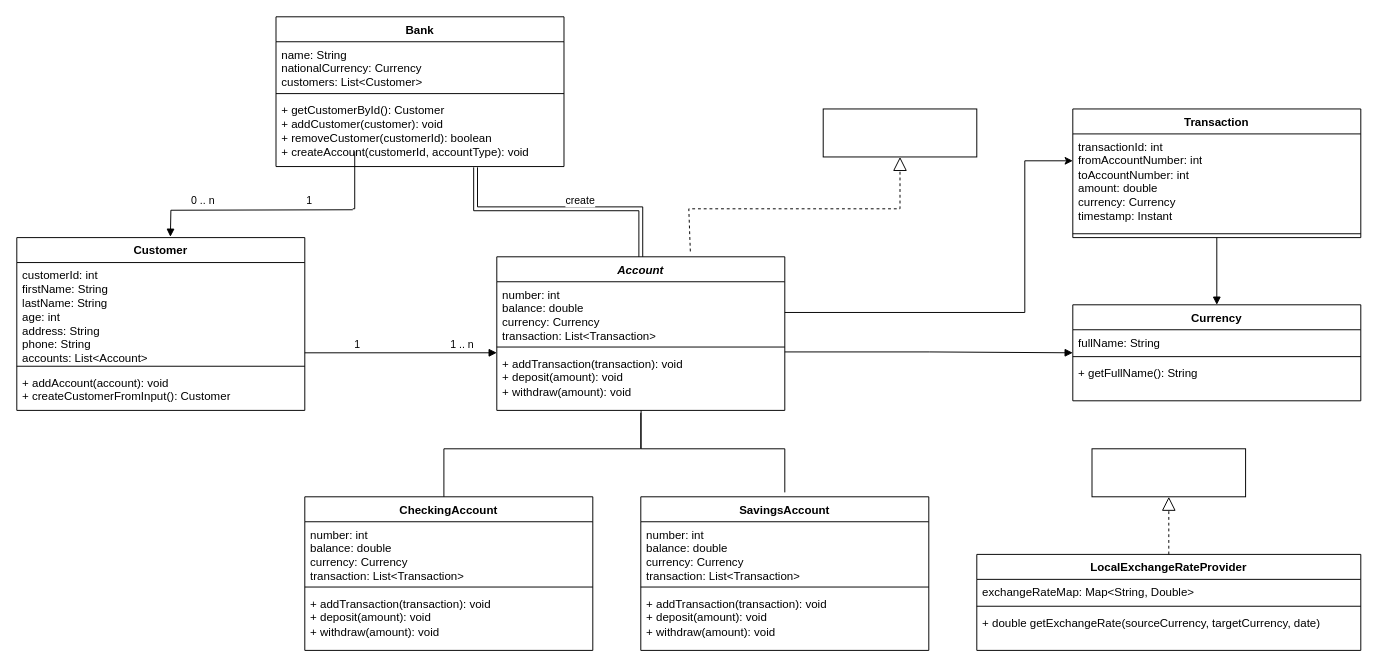
Some shapes in this 1378 by 670 pixel diagram are drawn without their labels. The centre of each missing label's shape, as x and y in pixels:
"«interface» ExchangeRateProvider" goes at (1168,472).
"«interface» TransactionExecutor" goes at (899,132).
